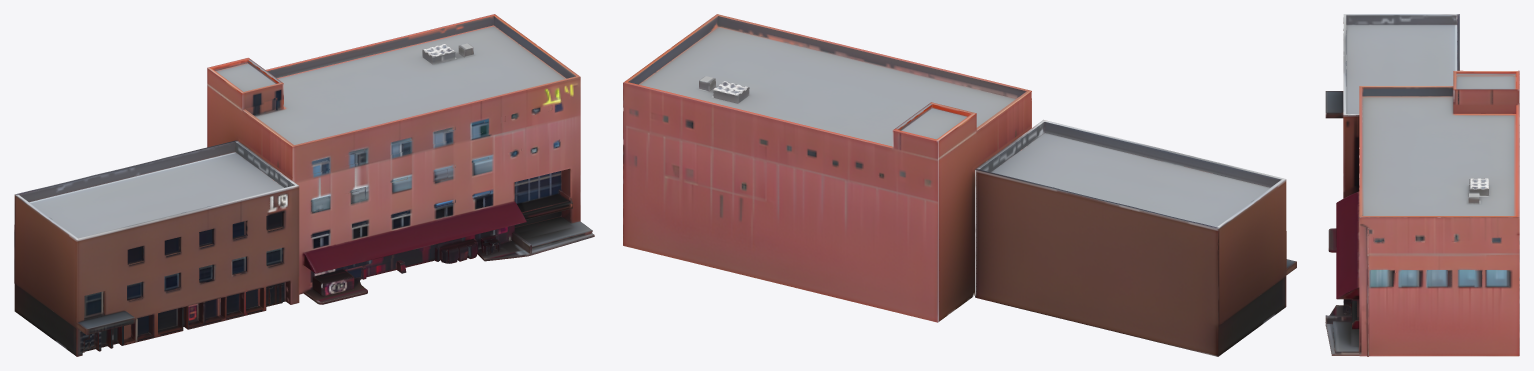
File: base_basic_shaded.fbx
The picture shows the model from 3 angles, left to right: view 1: azimuth 30°, elevation 25°; view 2: azimuth 150°, elevation 25°; view 3: azimuth 270°, elevation 25°; orthographic projection. The views are drawn at different scales.
Parts seen in each view (by area): view 1: model; view 2: model; view 3: model.
Boxes of the visible parts, x1=… form: model: x1=14, y1=14, x2=594, y2=356; model: x1=623, y1=14, x2=1296, y2=356; model: x1=1325, y1=14, x2=1519, y2=356.
Bounding box in the file's own units: 179 × 54.85 × 62.36.
